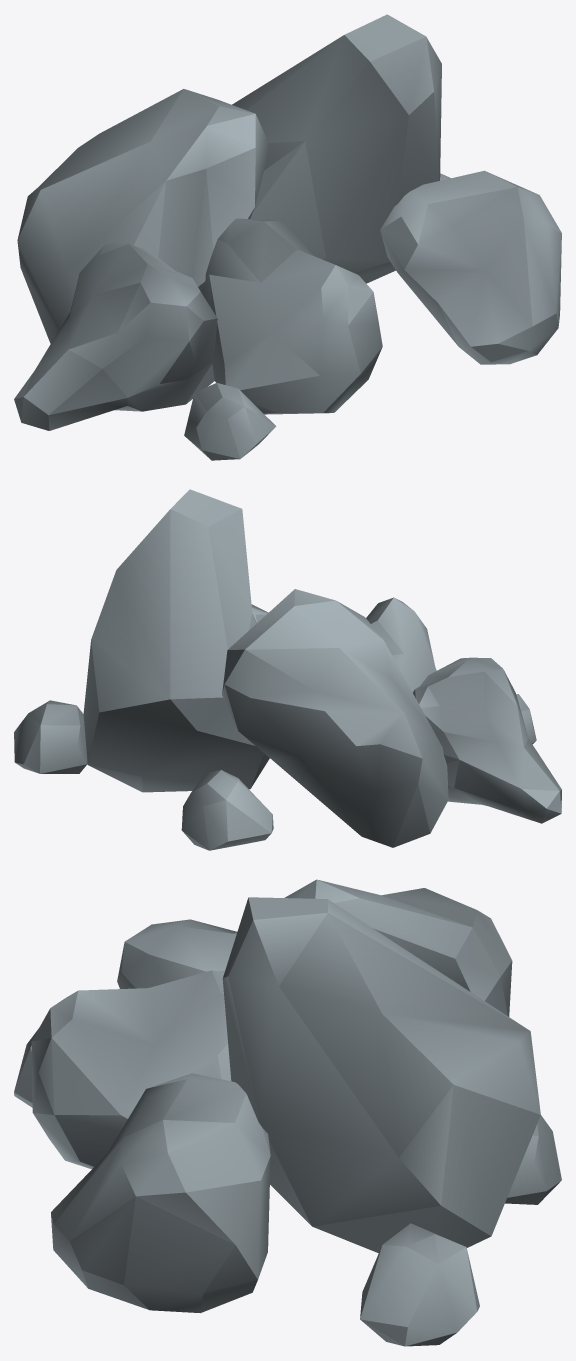
Rendered from stone_chunks_small.glb.
The picture shows the model from 3 angles, top to bottom: view 1: azimuth 30°, elevation 25°; view 2: azimuth 150°, elevation 25°; view 3: azimuth 270°, elevation 25°; orthographic projection. The views are drawn at different scales.
Visible parts, largest first — view 1: Stone_Chunks_Small; view 2: Stone_Chunks_Small; view 3: Stone_Chunks_Small.
Part boxes in pixels (<box>): Stone_Chunks_Small: <box>14,14,561,460</box>; Stone_Chunks_Small: <box>14,489,561,850</box>; Stone_Chunks_Small: <box>14,879,561,1346</box>.
Bounding box in the file's own units: 0.6731 × 0.3475 × 0.4717.
Materials: 1 (1 with a texture image).
